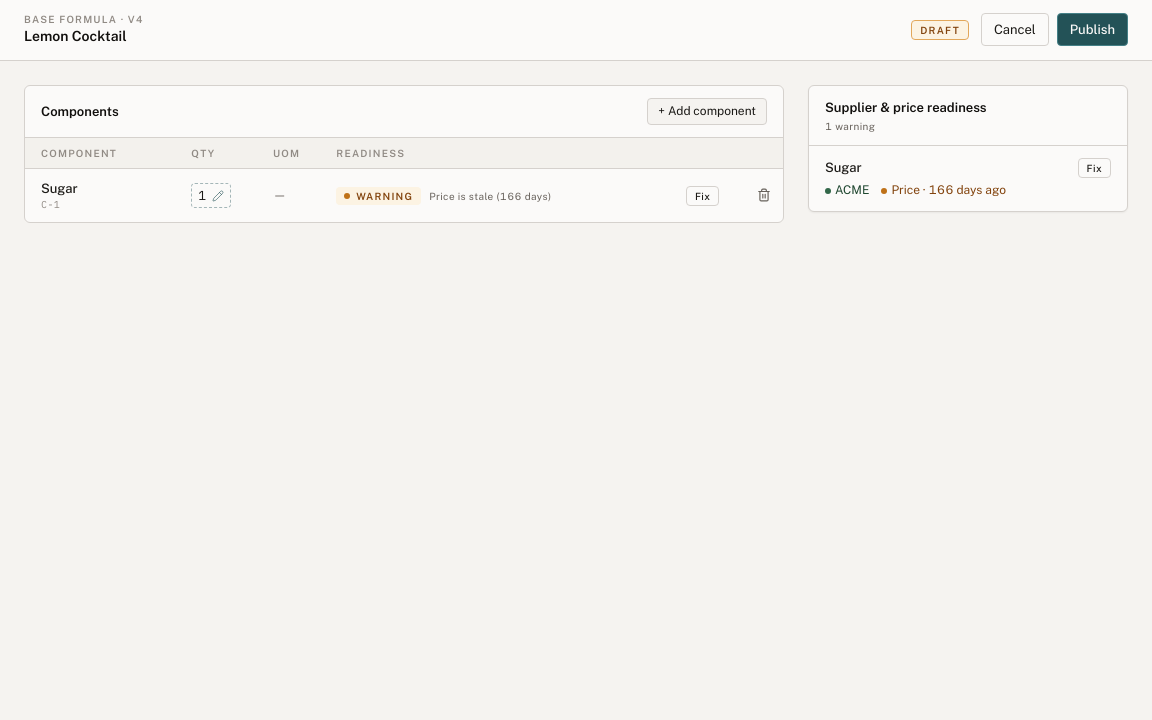
BomDraftEditorPage — Add line drawer › clicking Publish fetches preview and opens variant A when clean
This screenshot has width=1152, height=720.
Expected: the heading "Lemon Cocktail" is shown, top-left (24, 28), bottom-right (127, 44)
Click the button "Publish": [1092, 30] box top-left (1057, 13), bottom-right (1128, 46)
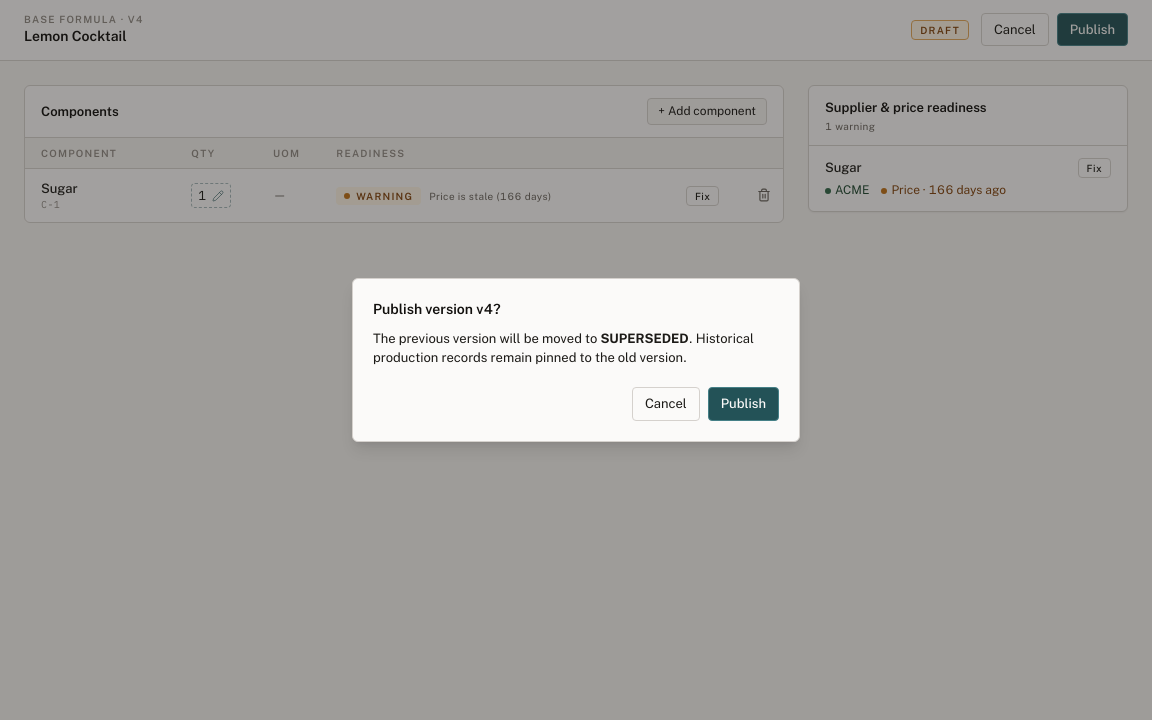
Now the dialog named "Confirm publish" is shown
